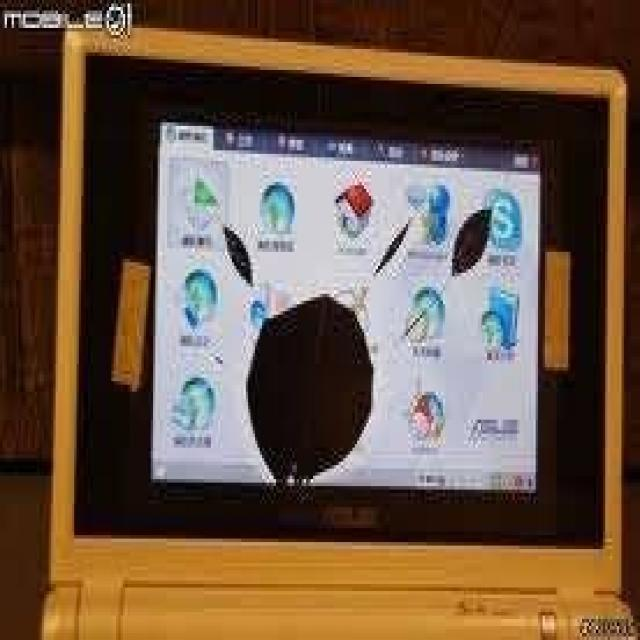Screen cracks: (200, 188, 498, 482)
